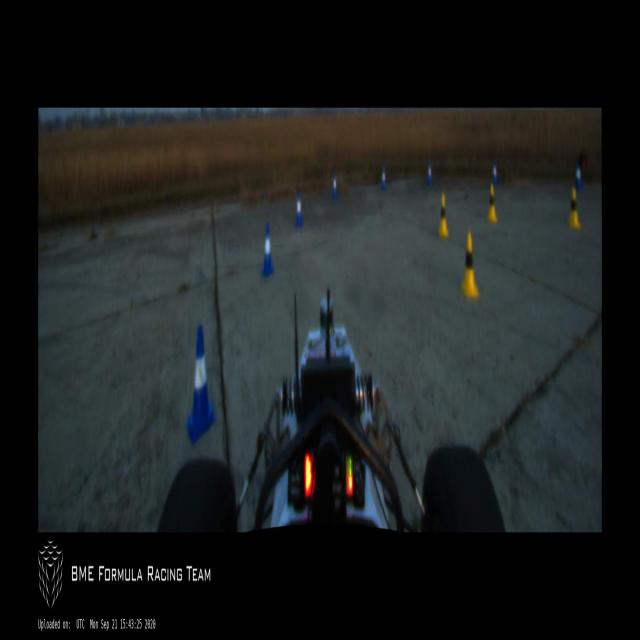blue_cone: (187, 326, 216, 442), (262, 223, 274, 277), (294, 192, 303, 226), (330, 172, 338, 200), (576, 162, 583, 189), (492, 163, 498, 188), (427, 161, 433, 185), (381, 166, 386, 192)
yellow_cone: (460, 233, 480, 298), (567, 188, 581, 230), (438, 194, 449, 237), (488, 184, 498, 222)
